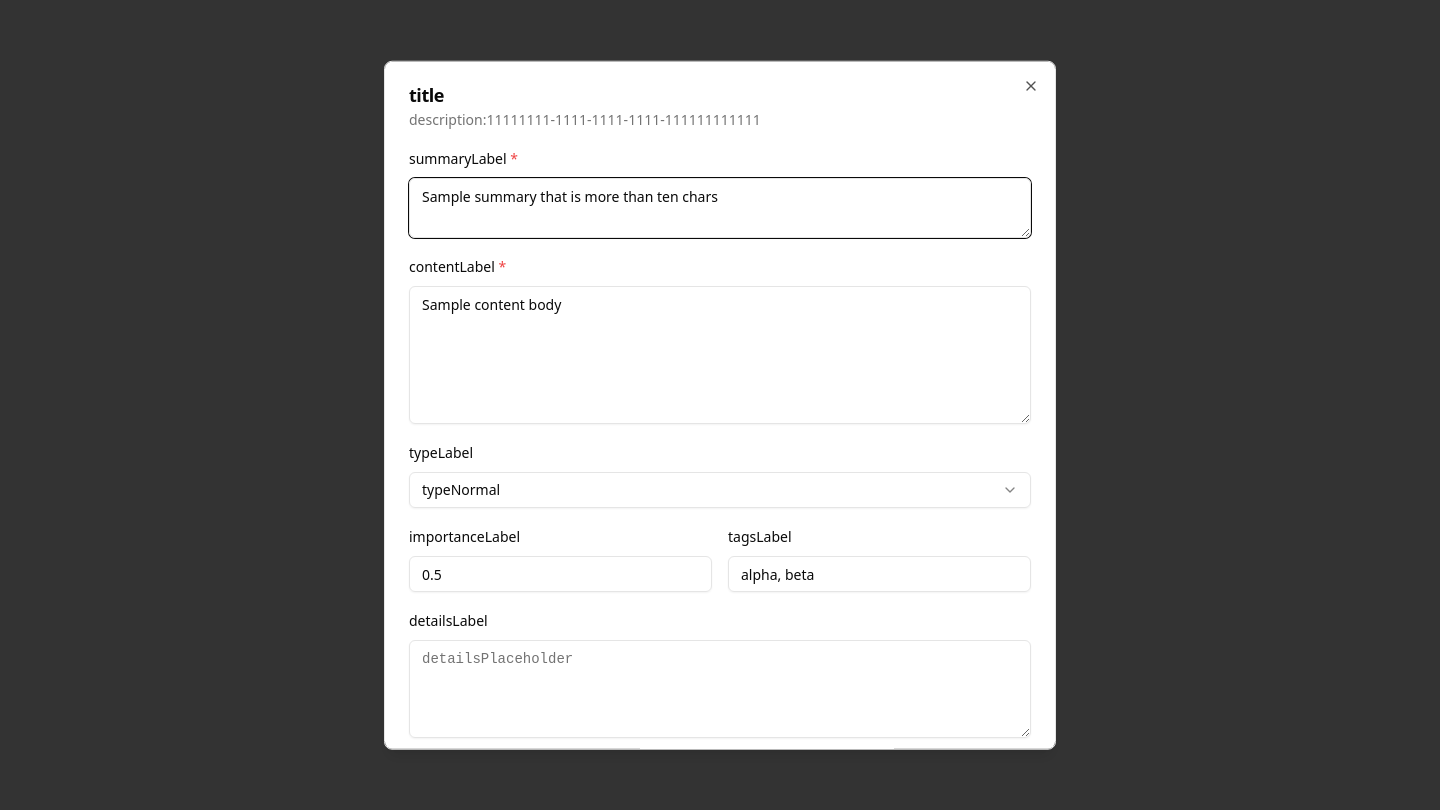
Test case: EditMemoryDialog — submit › surfaces API errors via the destructive Alert
The image size is (1440, 810).
Replace the text in the number field labelled "importanceLabel" with "0.95" at (560, 574), box [409,556,712,592]
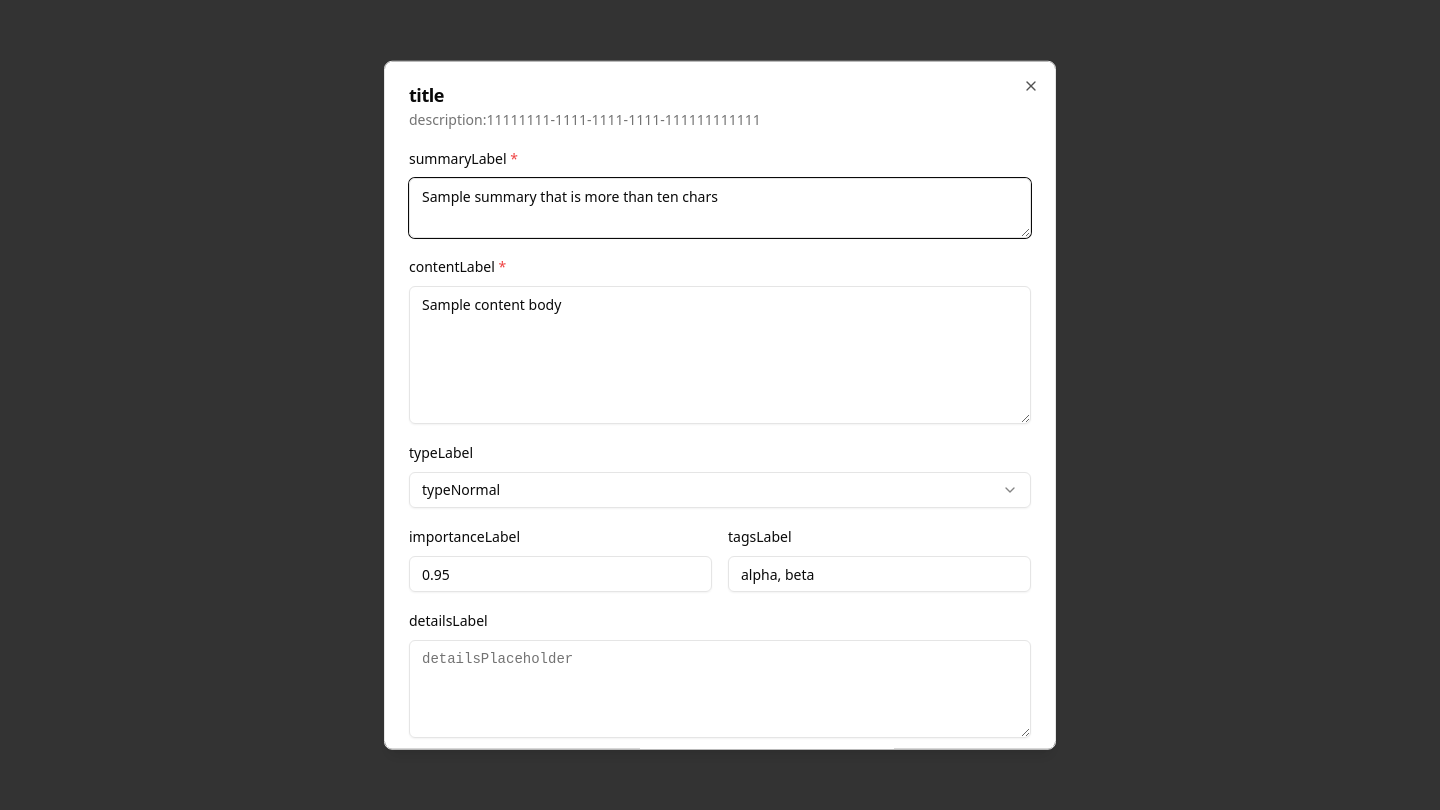
Expected: the form is shown, [409,146,1031,749]
Submit the form, box [409,146,1031,790]
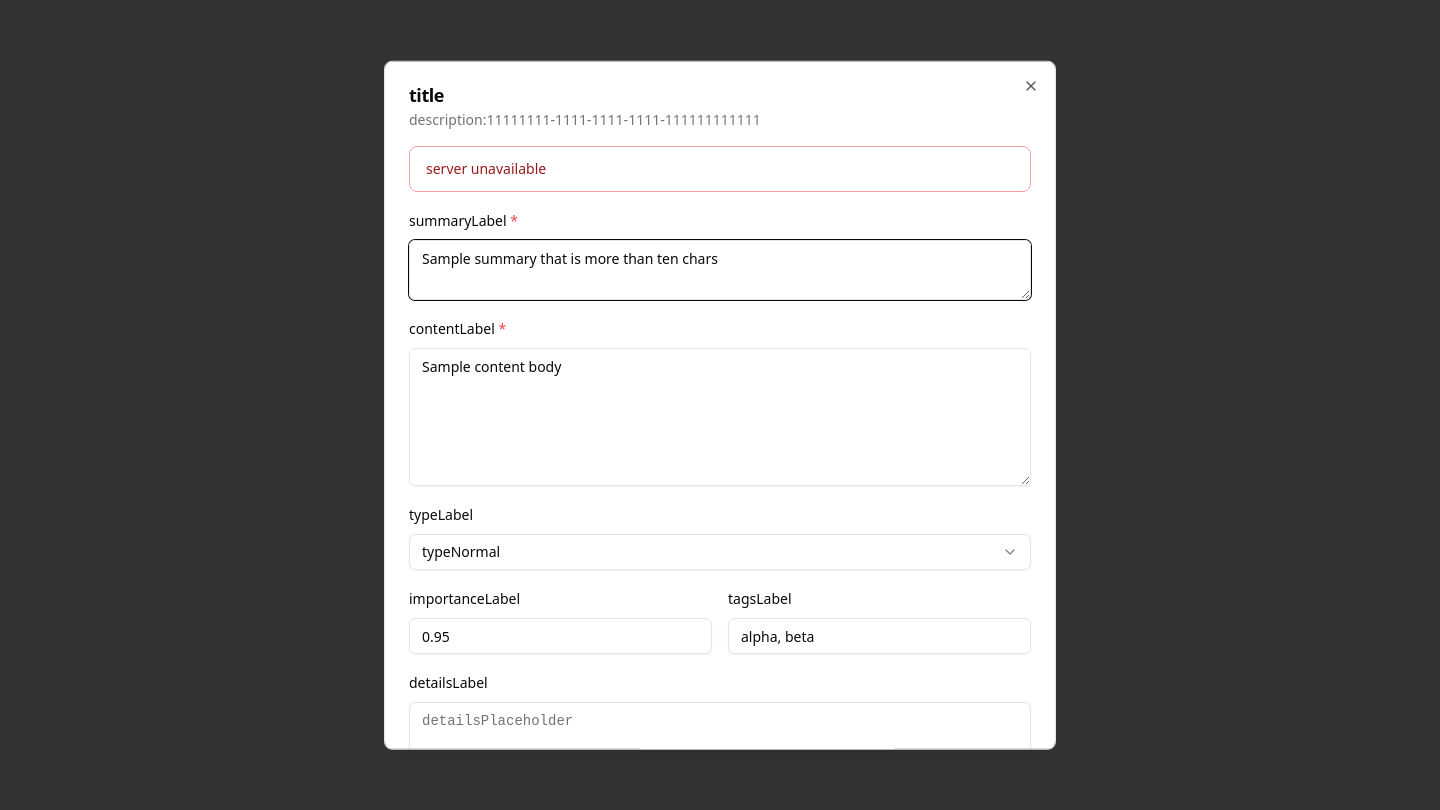
Expected: the text "server unavailable" is shown, [426,159,546,178]
